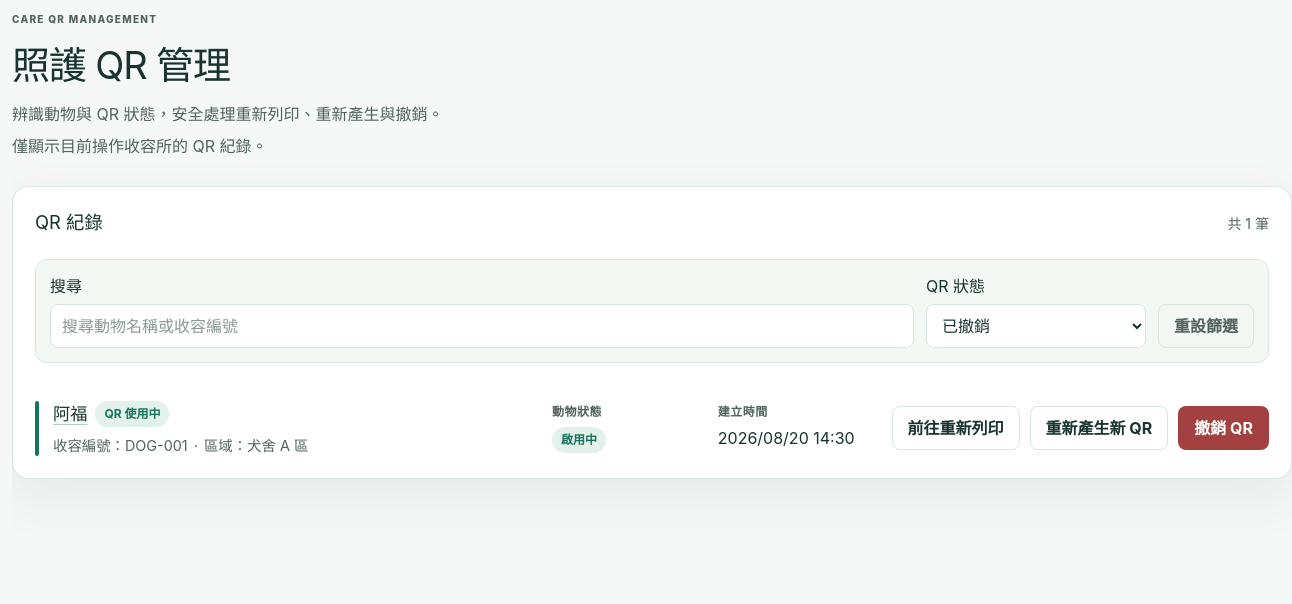
Test: animal-aware care QR management list › shows a filtered empty state for a status with no records
Select "已撤銷" in the dropdown labelled "QR 狀態" at (1036, 326), box x1=926 y1=304 x2=1146 y2=348
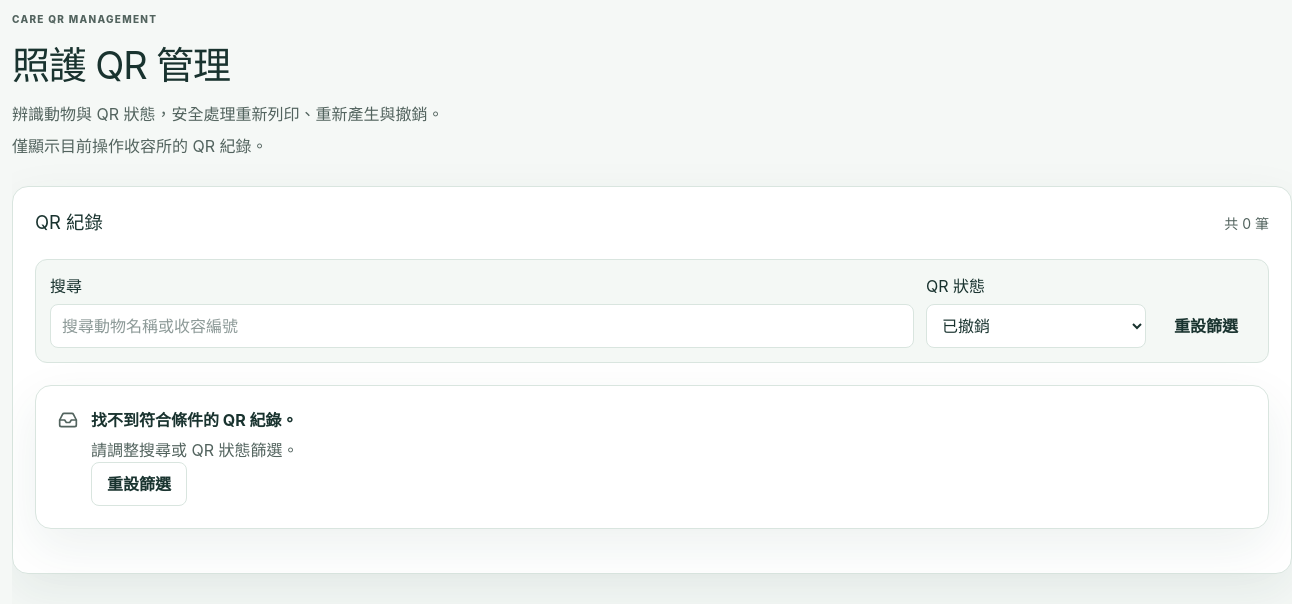
expect the text "找不到符合條件的 QR 紀錄。" is shown: met, box x1=91 y1=410 x2=298 y2=430
